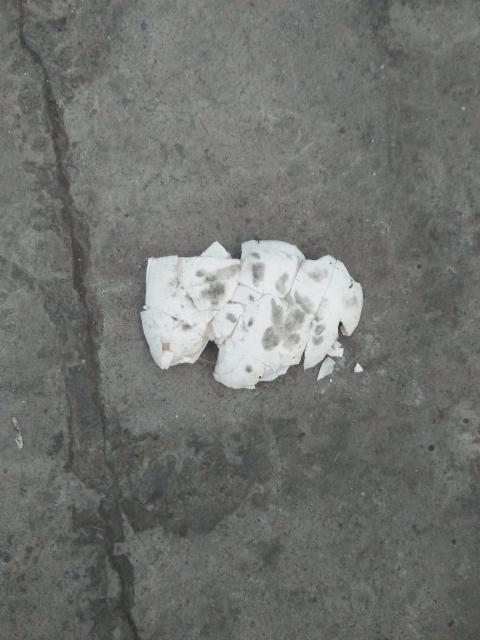Roto: (140, 238, 364, 390)
